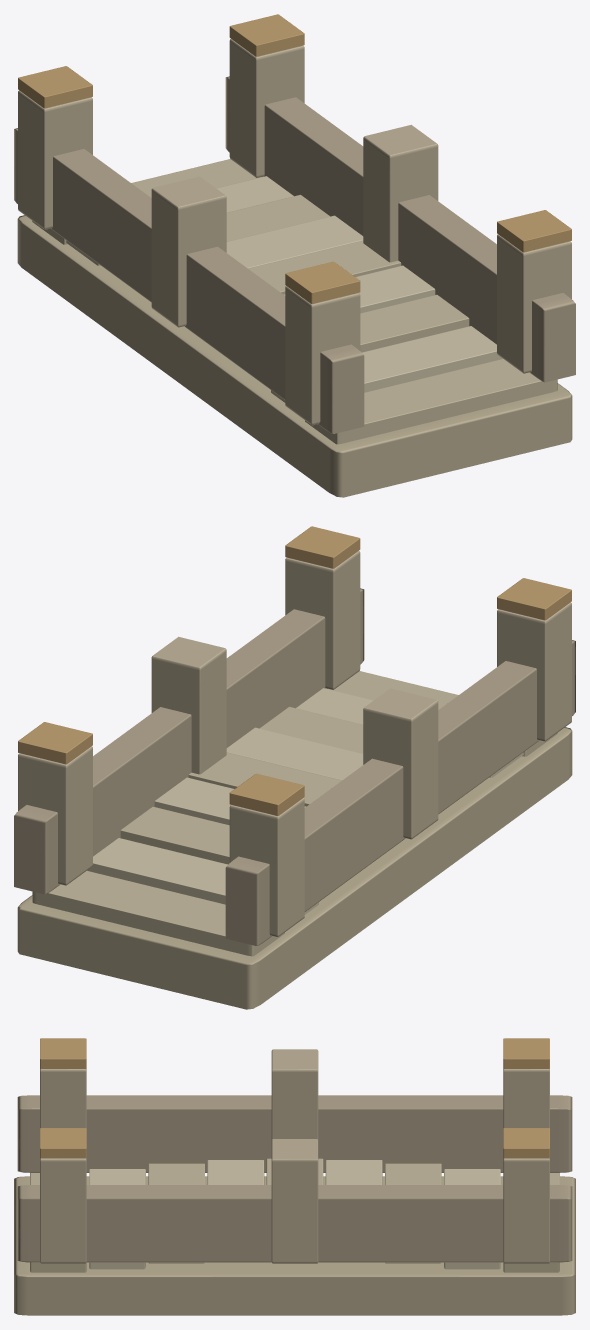
File: bridge-3.glb
3 renders of one model, top to bottom at view 1: azimuth 30°, elevation 25°; view 2: azimuth 150°, elevation 25°; view 3: azimuth 270°, elevation 25°, orthographic. The views are drawn at different scales.
Parts seen in each view (by area): view 1: bridge-3-0; view 2: bridge-3-0; view 3: bridge-3-0.
Boxes of the visible parts, left/top/right/bottom form: bridge-3-0: left=14, top=14, right=575, bottom=497; bridge-3-0: left=14, top=526, right=575, bottom=1009; bridge-3-0: left=14, top=1038, right=575, bottom=1315.
Bounding box in the file's own units: 1.06 × 0.7725 × 2.28.
